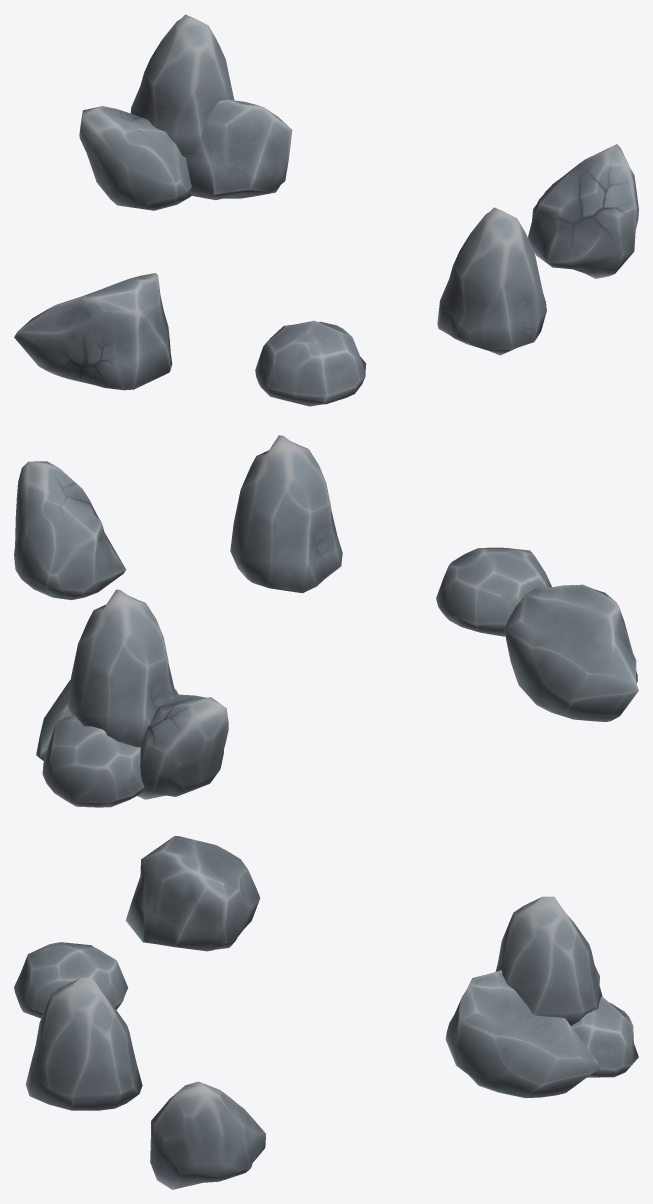
The model's file is stones.glb.
The picture shows the model from 3 angles, top to bottom: view 1: azimuth 30°, elevation 25°; view 2: azimuth 150°, elevation 25°; view 3: azimuth 270°, elevation 25°; orthographic projection. The views are drawn at different scales.
Visible parts, largest first — view 1: st4_low.003, st2_low.003, st3_low.003, st2_low.002, st3_low.002, st4_low.002, st1_low.003; view 2: st4_low.003, st2_low.003, st2_low.002, st3_low.003, st3_low.002, st1_low.002, st1_low.003, st4_low.002; view 3: st4_low.002, st4_low.003, st2_low.003, st2_low.002, st3_low.003, st1_low.003, st1_low.002.
Boxes of the visible parts, left/top/right/bottom form: st4_low.003: left=14, top=273, right=172, bottom=390; st2_low.003: left=437, top=207, right=546, bottom=355; st3_low.003: left=528, top=144, right=638, bottom=278; st2_low.002: left=130, top=14, right=234, bottom=157; st3_low.002: left=79, top=106, right=191, bottom=210; st4_low.002: left=186, top=99, right=292, bottom=200; st1_low.003: left=255, top=320, right=366, bottom=406; st4_low.003: left=504, top=584, right=638, bottom=721; st2_low.003: left=230, top=435, right=342, bottom=593; st2_low.002: left=67, top=589, right=175, bottom=747; st3_low.003: left=14, top=461, right=126, bottom=600; st3_low.002: left=137, top=694, right=228, bottom=799; st1_low.002: left=42, top=715, right=144, bottom=807; st1_low.003: left=436, top=547, right=551, bottom=636; st4_low.002: left=36, top=679, right=178, bottom=760; st4_low.002: left=445, top=970, right=599, bottom=1098; st4_low.003: left=125, top=836, right=260, bottom=951; st2_low.003: left=25, top=978, right=142, bottom=1110; st2_low.002: left=495, top=896, right=602, bottom=1025; st3_low.003: left=150, top=1081, right=265, bottom=1189; st1_low.003: left=14, top=942, right=128, bottom=1018; st1_low.002: left=571, top=996, right=638, bottom=1077.
Bounding box in the file's own units: 4.58 × 1.34 × 4.14.
1 material, 1 textured.
